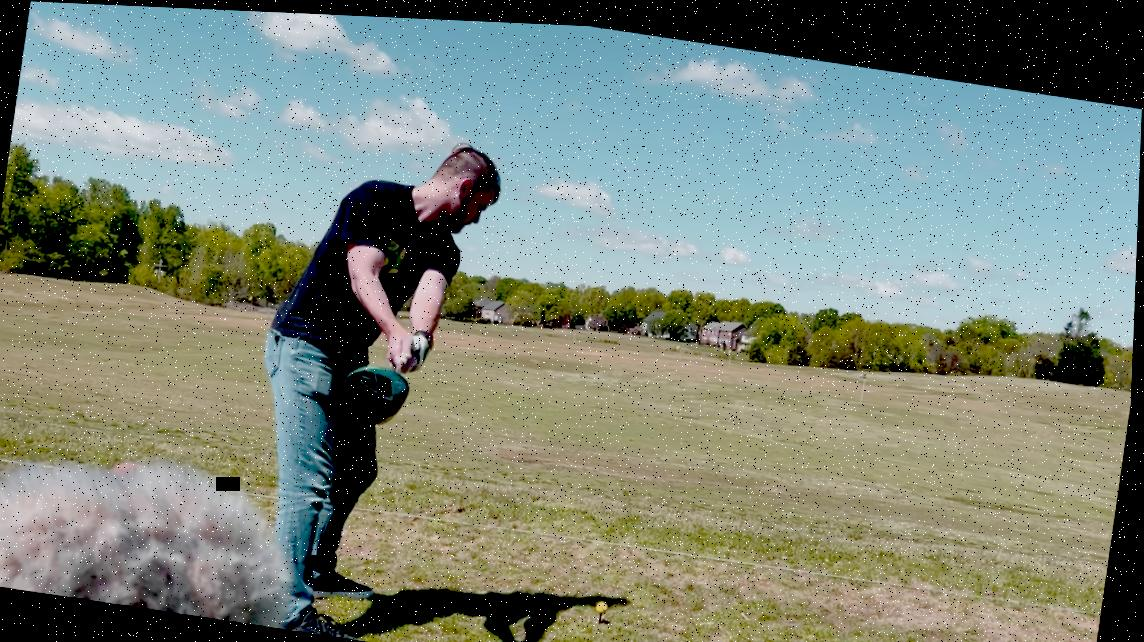ClubHead: (338, 358, 416, 426)
GolfBall: (597, 592, 615, 613)
